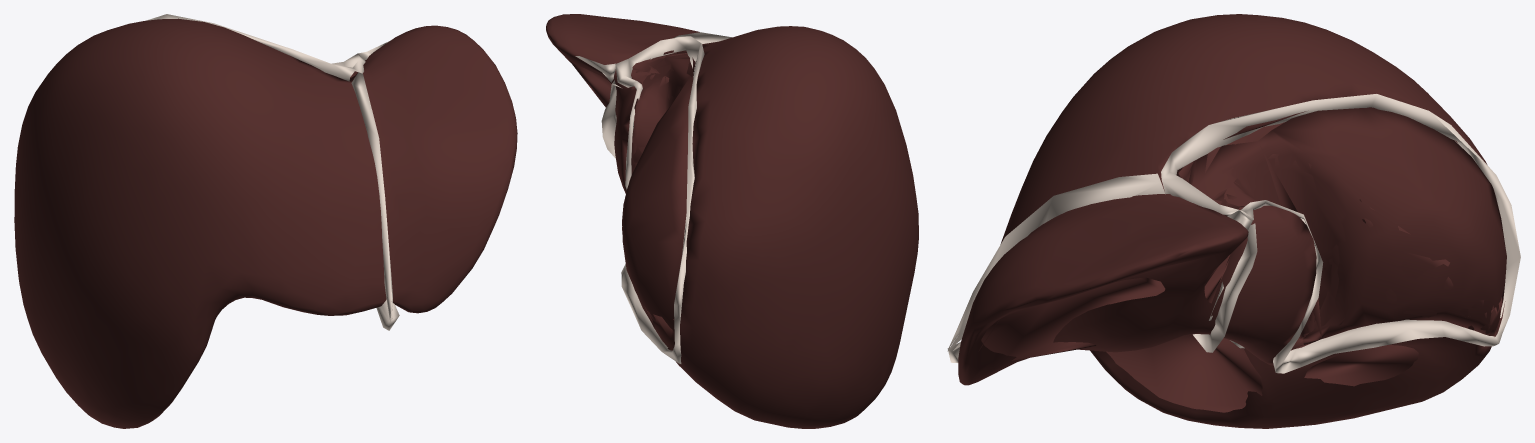
Rendered from vh_m_liver-20.glb.
The picture shows the model from 3 angles, left to right: view 1: azimuth 30°, elevation 25°; view 2: azimuth 150°, elevation 25°; view 3: azimuth 270°, elevation 25°; orthographic projection. The views are drawn at different scales.
Parts seen in each view (by area): view 1: VH_M_liver_capsule, VH_M_falciform_ligament, VH_M_coronary_ligament_of_liver; view 2: VH_M_liver_capsule, VH_M_bare_area_of_liver, VH_M_coronary_ligament_of_liver, VH_M_caudate_lobe_of_liver, VH_M_ligamentum_venosum, VH_M_diaphragmatic_surface, VH_M_esophageal_impression_of_liver, VH_M_right_posteroinferior_segment; view 3: VH_M_liver_capsule, VH_M_bare_area_of_liver, VH_M_coronary_ligament_of_liver, VH_M_colic_impression_of_liver, VH_M_gastric_impression_of_liver, VH_M_diaphragmatic_surface, VH_M_falciform_ligament, VH_M_caudate_lobe_of_liver, VH_M_renal_impression_of_liver, VH_M_ligamentum_venosum.
Part boxes in pixels (x1,y1,x2,y2): VH_M_liver_capsule: (14,18,517,428); VH_M_falciform_ligament: (351,72,392,321); VH_M_coronary_ligament_of_liver: (146,14,365,81); VH_M_liver_capsule: (546,14,918,428); VH_M_bare_area_of_liver: (622,50,692,347); VH_M_coronary_ligament_of_liver: (615,36,704,363); VH_M_caudate_lobe_of_liver: (615,53,692,166); VH_M_ligamentum_venosum: (601,80,620,158); VH_M_diaphragmatic_surface: (622,64,681,329); VH_M_esophageal_impression_of_liver: (569,60,611,107); VH_M_right_posteroinferior_segment: (642,306,674,345); VH_M_liver_capsule: (958,14,1505,428); VH_M_bare_area_of_liver: (1176,107,1506,345); VH_M_coronary_ligament_of_liver: (1161,94,1520,373); VH_M_colic_impression_of_liver: (1106,334,1262,412); VH_M_gastric_impression_of_liver: (981,277,1165,360); VH_M_diaphragmatic_surface: (979,154,1495,350); VH_M_falciform_ligament: (947,173,1165,351); VH_M_caudate_lobe_of_liver: (1188,122,1365,349); VH_M_renal_impression_of_liver: (1304,345,1418,386); VH_M_ligamentum_venosum: (1193,223,1257,352).
Bounding box in the file's own units: 0.1915 × 0.1746 × 0.202.
